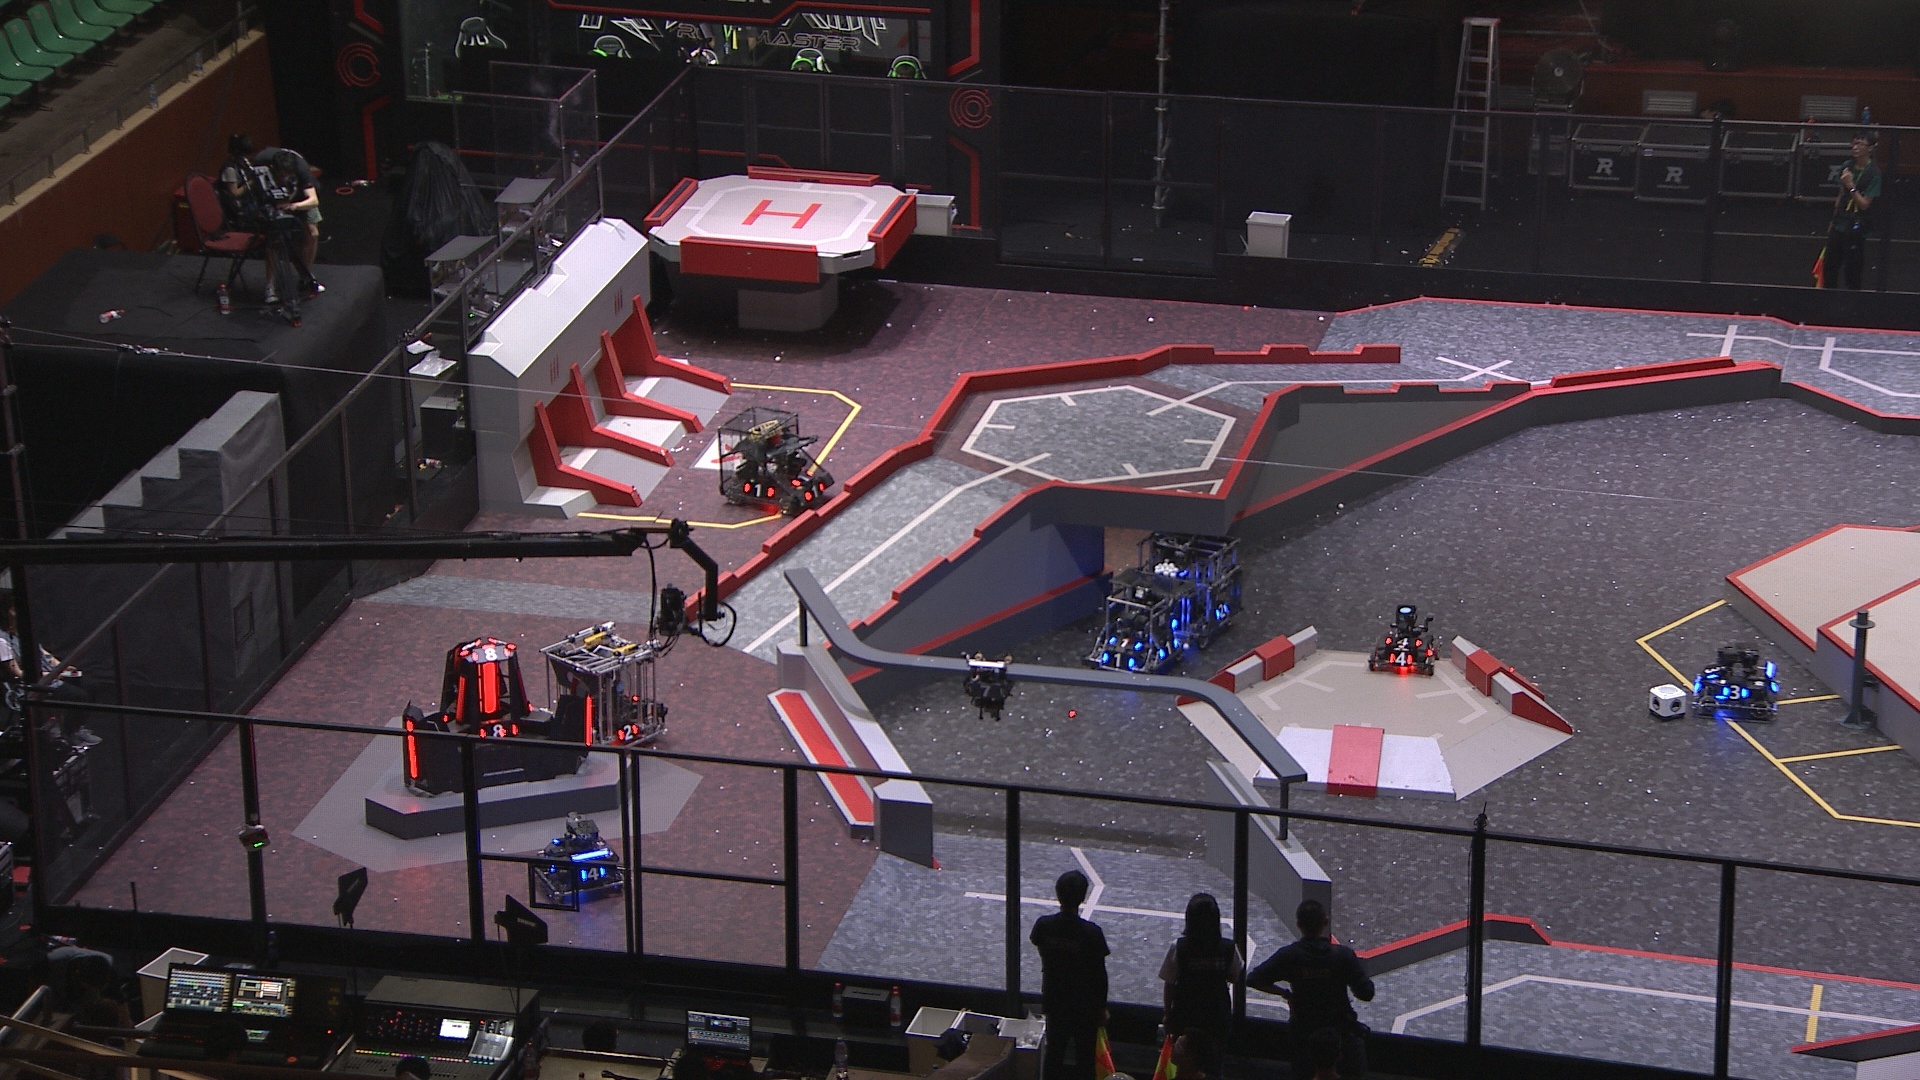armor: (476, 661, 502, 713), (405, 719, 419, 779), (477, 723, 520, 741), (1101, 651, 1138, 670), (741, 481, 775, 500), (471, 647, 513, 661), (1155, 638, 1182, 659), (1106, 636, 1143, 650), (613, 723, 640, 742), (1721, 684, 1751, 702), (968, 684, 1004, 699), (584, 694, 593, 746), (455, 676, 465, 723), (578, 866, 608, 882), (1389, 651, 1414, 669), (1386, 636, 1422, 647), (804, 484, 827, 502), (458, 640, 477, 657), (1702, 666, 1722, 680), (793, 472, 814, 485), (1215, 603, 1232, 618)
base: (398, 636, 597, 799)
car: (539, 621, 666, 756), (1129, 524, 1245, 645), (716, 404, 836, 514), (1081, 567, 1197, 678), (1683, 640, 1787, 725), (531, 812, 626, 905), (1364, 603, 1444, 679)
watcher: (957, 651, 1017, 723)
